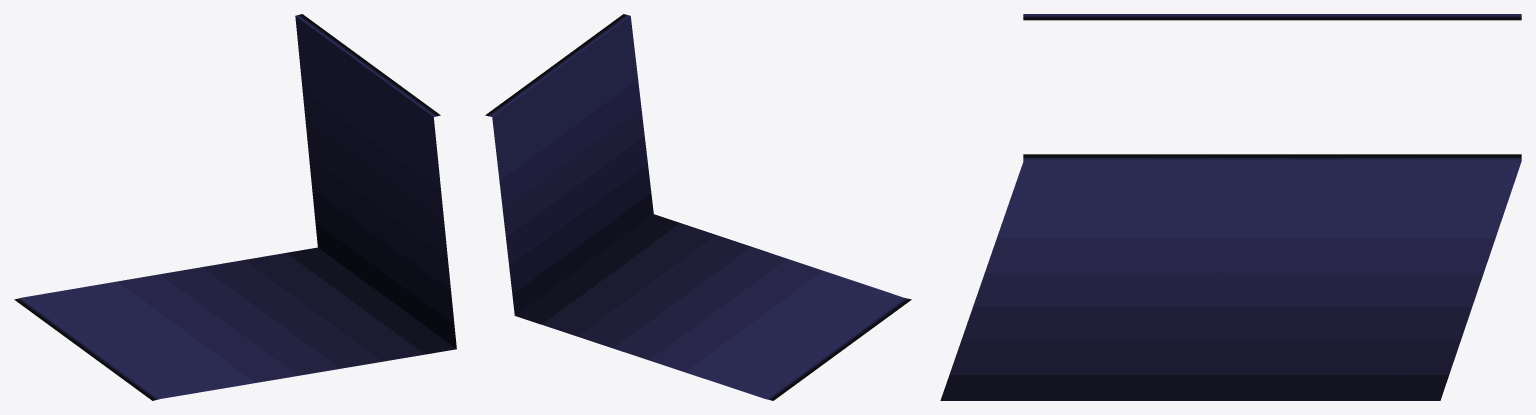
3 views of the same model, side by side, from view 1: azimuth 30°, elevation 25°; view 2: azimuth 150°, elevation 25°; view 3: azimuth 270°, elevation 25° (orthographic). The views are drawn at different scales.
Parts seen in each view (by area): view 1: Joint_0_Object_0; view 2: Joint_0_Object_0; view 3: Joint_0_Object_0.
Boxes of the visible parts, left/top/right/bottom form: Joint_0_Object_0: left=14, top=14, right=456, bottom=400; Joint_0_Object_0: left=485, top=14, right=911, bottom=400; Joint_0_Object_0: left=940, top=14, right=1521, bottom=400.
Bounding box in the file's own units: 842 × 600 × 817.
1 material, 1 textured.
